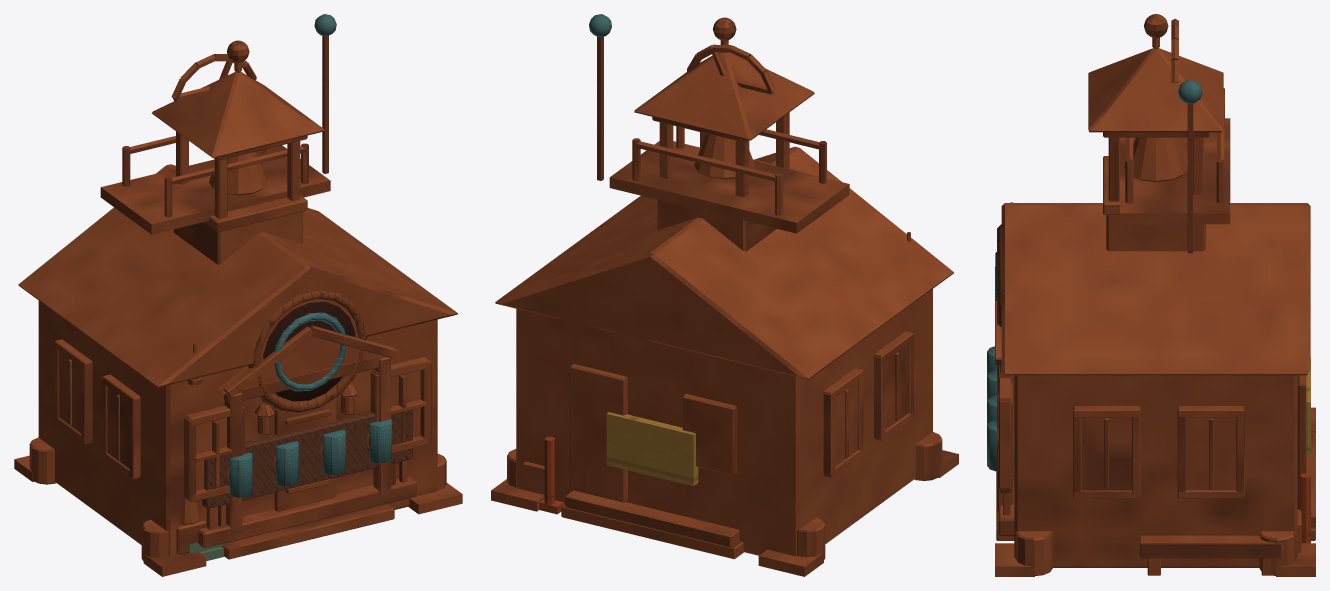
The model's file is schoolhouse.e9.glb.
The picture shows the model from 3 angles, left to right: view 1: azimuth 30°, elevation 25°; view 2: azimuth 150°, elevation 25°; view 3: azimuth 270°, elevation 25°; orthographic projection. The views are drawn at different scales.
Visible parts, largest first — view 1: SchoolhouseE9AreologyHall; view 2: SchoolhouseE9AreologyHall; view 3: SchoolhouseE9AreologyHall.
Part boxes in pixels (x1=…): SchoolhouseE9AreologyHall: x1=14, y1=14, x2=462, y2=576; SchoolhouseE9AreologyHall: x1=491, y1=14, x2=958, y2=576; SchoolhouseE9AreologyHall: x1=987, y1=14, x2=1315, y2=576.
Bounding box in the file's own units: 3.96 × 5.6 × 3.46.
1 material, 1 textured.
